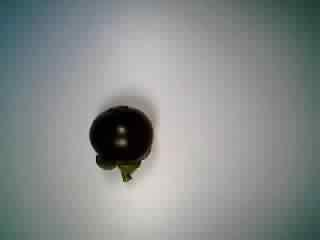mangosteen: (84, 102, 165, 182)
